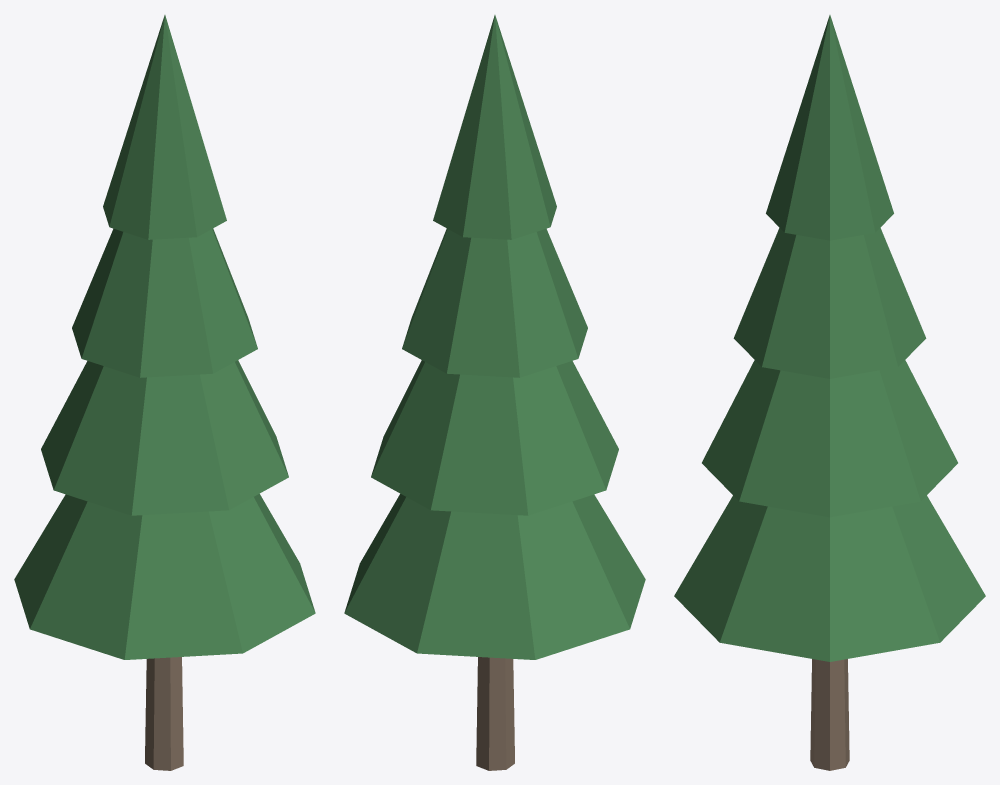
The model's file is sugi.glb.
The picture shows the model from 3 angles, left to right: view 1: azimuth 30°, elevation 25°; view 2: azimuth 150°, elevation 25°; view 3: azimuth 270°, elevation 25°; orthographic projection.
Parts seen in each view (by area): view 1: sugi; view 2: sugi; view 3: sugi.
Part boxes in pixels (x1,y1,x2,y2): sugi: (14, 15, 315, 770); sugi: (344, 15, 645, 770); sugi: (674, 15, 985, 770).
Bounding box in the file's own units: 3.4 × 9 × 3.4.
